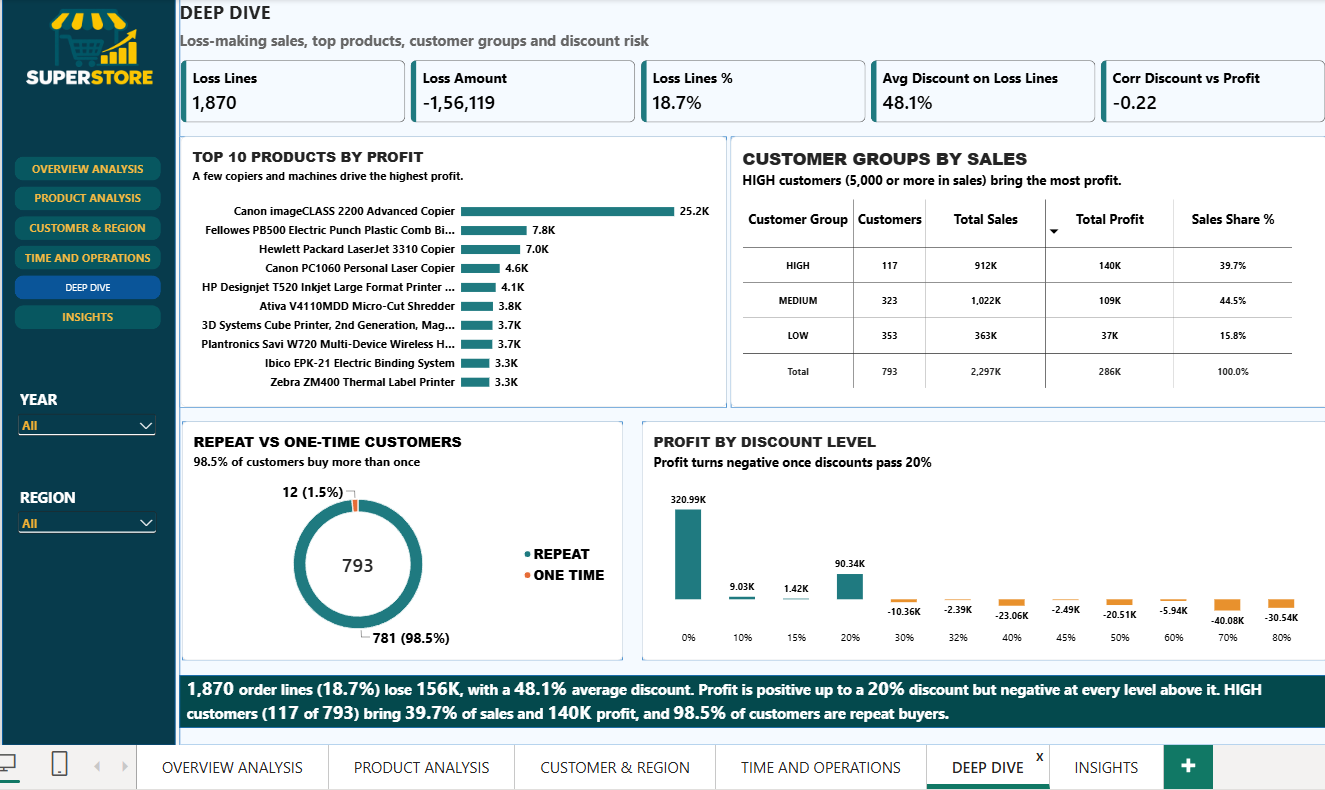

This screenshot's page, from the dashboard's own definition file:
{"tool":"powerbi","page":{"name":"DEEP DIVE","canvas":[1920,1080],"ordinal":4},"visuals":[{"type":"shape","box":[0,0,251.1,1080.6],"z":0},{"type":"shape","box":[257.3,0,1663.1,1080.6],"z":1000},{"type":"textbox","box":[257.3,0,300.5,45.3],"z":2000},{"type":"textbox","box":[257.3,45.3,773.9,43.2],"z":3000},{"type":"cardVisual","fields":{"Data":["_MEASURES.Loss Lines","_MEASURES.Loss Amount","_MEASURES.Loss Lines %","_MEASURES.Avg Discount on Loss Lines","_MEASURES.Corr Discount vs Profit"]},"box":[259.3,88.5,1661.1,90.6],"z":4000},{"type":"shape","box":[257.3,199.7,792.5,393.1],"z":5000},{"type":"clusteredBarChart","title":"TOP 10 PRODUCTS BY PROFIT","fields":{"Category":["superstore.Product Name"],"Y":["_MEASURES.Total Profit"]},"box":[259.3,199.7,790.4,391.1],"z":6000},{"type":"shape","box":[1055.9,199.7,864.5,393.1],"z":7000},{"type":"tableEx","title":"CUSTOMER GROUPS BY SALES","fields":{"Values":["superstore.Customer Group","_MEASURES.Customers","_MEASURES.Total Sales","_MEASURES.Total Profit","_MEASURES.Sales Share %"]},"box":[1055.9,199.7,864.5,391.1],"z":8000},{"type":"shape","box":[261.4,611.3,638.1,345.8],"z":9000},{"type":"donutChart","title":"REPEAT VS ONE-TIME CUSTOMERS","fields":{"Category":["superstore.Customer Type"],"Y":["_MEASURES.Customers"]},"box":[261.4,611.3,638.1,345.8],"z":10000},{"type":"shape","box":[926.2,611.3,994.2,345.8],"z":11000},{"type":"clusteredColumnChart","title":"PROFIT BY DISCOUNT LEVEL","fields":{"Category":["superstore.Discount"],"Y":["_MEASURES.Total Profit"]},"box":[926.2,611.3,994.2,345.8],"z":12000},{"type":"shape","box":[257.3,979.8,1663.1,76.2],"z":13000},{"type":"textbox","box":[257.3,979.8,1663.1,76.2],"z":14000},{"type":"slicer","fields":{"Values":["Calender.year"]},"box":[18.5,564,210,88],"z":14001},{"type":"slicer","fields":{"Values":["superstore.Region"]},"box":[18.5,706,210.3,79.1],"z":14002},{"type":"pageNavigator","box":[18.5,228.5,212.3,252.8],"z":14003},{"type":"image","box":[0,0,251.1,140],"z":14004}]}

Visuals, with their boxes on the page's 1920x1080 design canvas (x1, y1, x2, y2). These are canvas units, not pixel positions in the 1325x790 screenshot, which may show the page scaled, cropped or inside an application window:
shape: BBox(0, 0, 251, 1081)
shape: BBox(257, 0, 1920, 1081)
textbox: BBox(257, 0, 558, 45)
textbox: BBox(257, 45, 1031, 88)
cardVisual - _MEASURES.Loss Lines x _MEASURES.Loss Amount: BBox(259, 88, 1920, 179)
shape: BBox(257, 200, 1050, 593)
"TOP 10 PRODUCTS BY PROFIT" clusteredBarChart: BBox(259, 200, 1050, 591)
shape: BBox(1056, 200, 1920, 593)
"CUSTOMER GROUPS BY SALES" tableEx: BBox(1056, 200, 1920, 591)
shape: BBox(261, 611, 900, 957)
"REPEAT VS ONE-TIME CUSTOMERS" donutChart: BBox(261, 611, 900, 957)
shape: BBox(926, 611, 1920, 957)
"PROFIT BY DISCOUNT LEVEL" clusteredColumnChart: BBox(926, 611, 1920, 957)
shape: BBox(257, 980, 1920, 1056)
textbox: BBox(257, 980, 1920, 1056)
slicer - Calender.year: BBox(18, 564, 228, 652)
slicer - superstore.Region: BBox(18, 706, 229, 785)
pageNavigator: BBox(18, 228, 231, 481)
image: BBox(0, 0, 251, 140)
